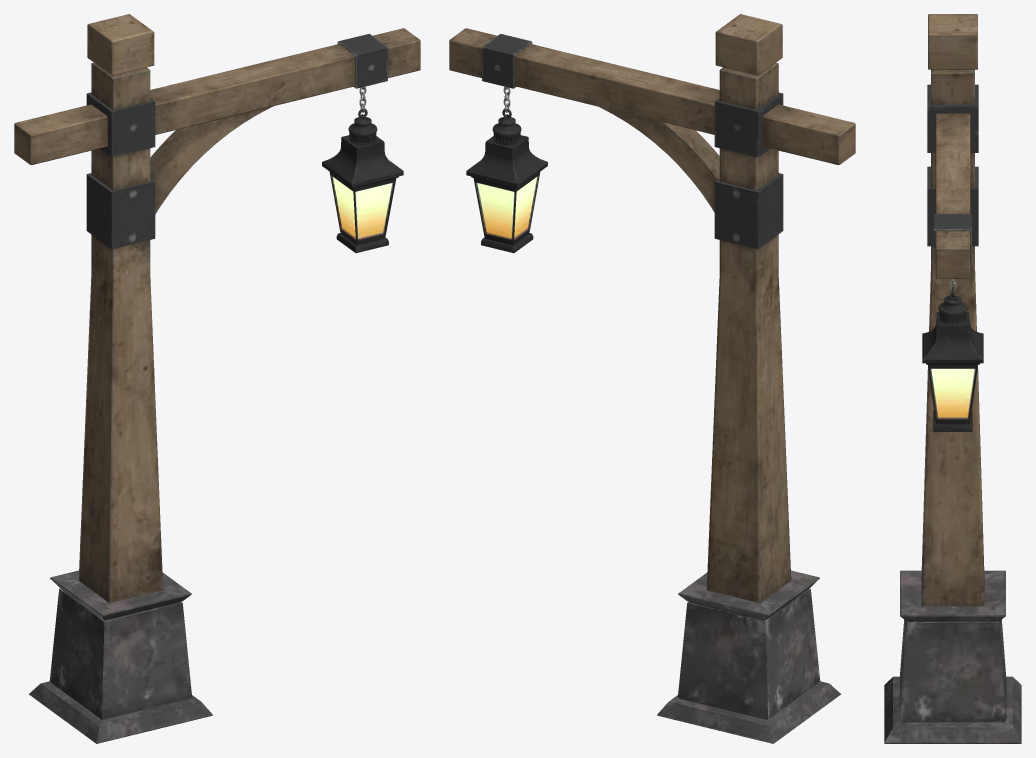
The model's file is med.glb.
The picture shows the model from 3 angles, left to right: view 1: azimuth 30°, elevation 25°; view 2: azimuth 150°, elevation 25°; view 3: azimuth 270°, elevation 25°; orthographic projection.
Visible parts, largest first — view 1: LanternPole_Body, LanternPole_Lantern; view 2: LanternPole_Body, LanternPole_Lantern; view 3: LanternPole_Body, LanternPole_Lantern.
Part boxes in pixels (x1=…): LanternPole_Body: x1=14, y1=14, x2=420, y2=743; LanternPole_Lantern: x1=322, y1=108, x2=403, y2=253; LanternPole_Body: x1=449, y1=14, x2=855, y2=743; LanternPole_Lantern: x1=466, y1=108, x2=547, y2=253; LanternPole_Body: x1=884, y1=14, x2=1021, y2=743; LanternPole_Lantern: x1=922, y1=287, x2=983, y2=431.
Bounding box in the file's own units: 15.49 × 25.66 × 4.63.
Materials: 1 (1 with a texture image).
